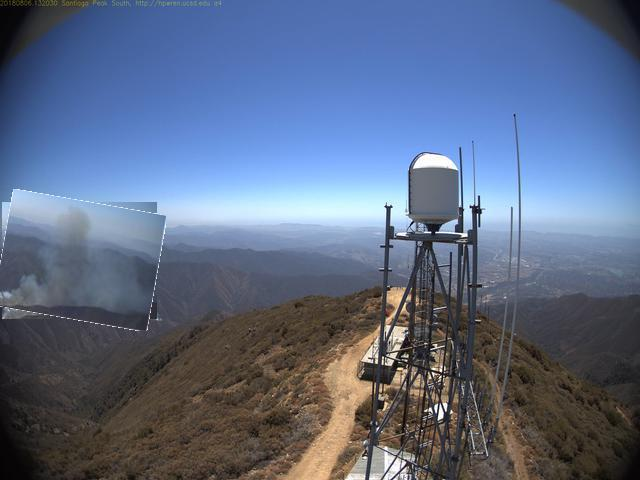smoke: (1, 196, 164, 328)
